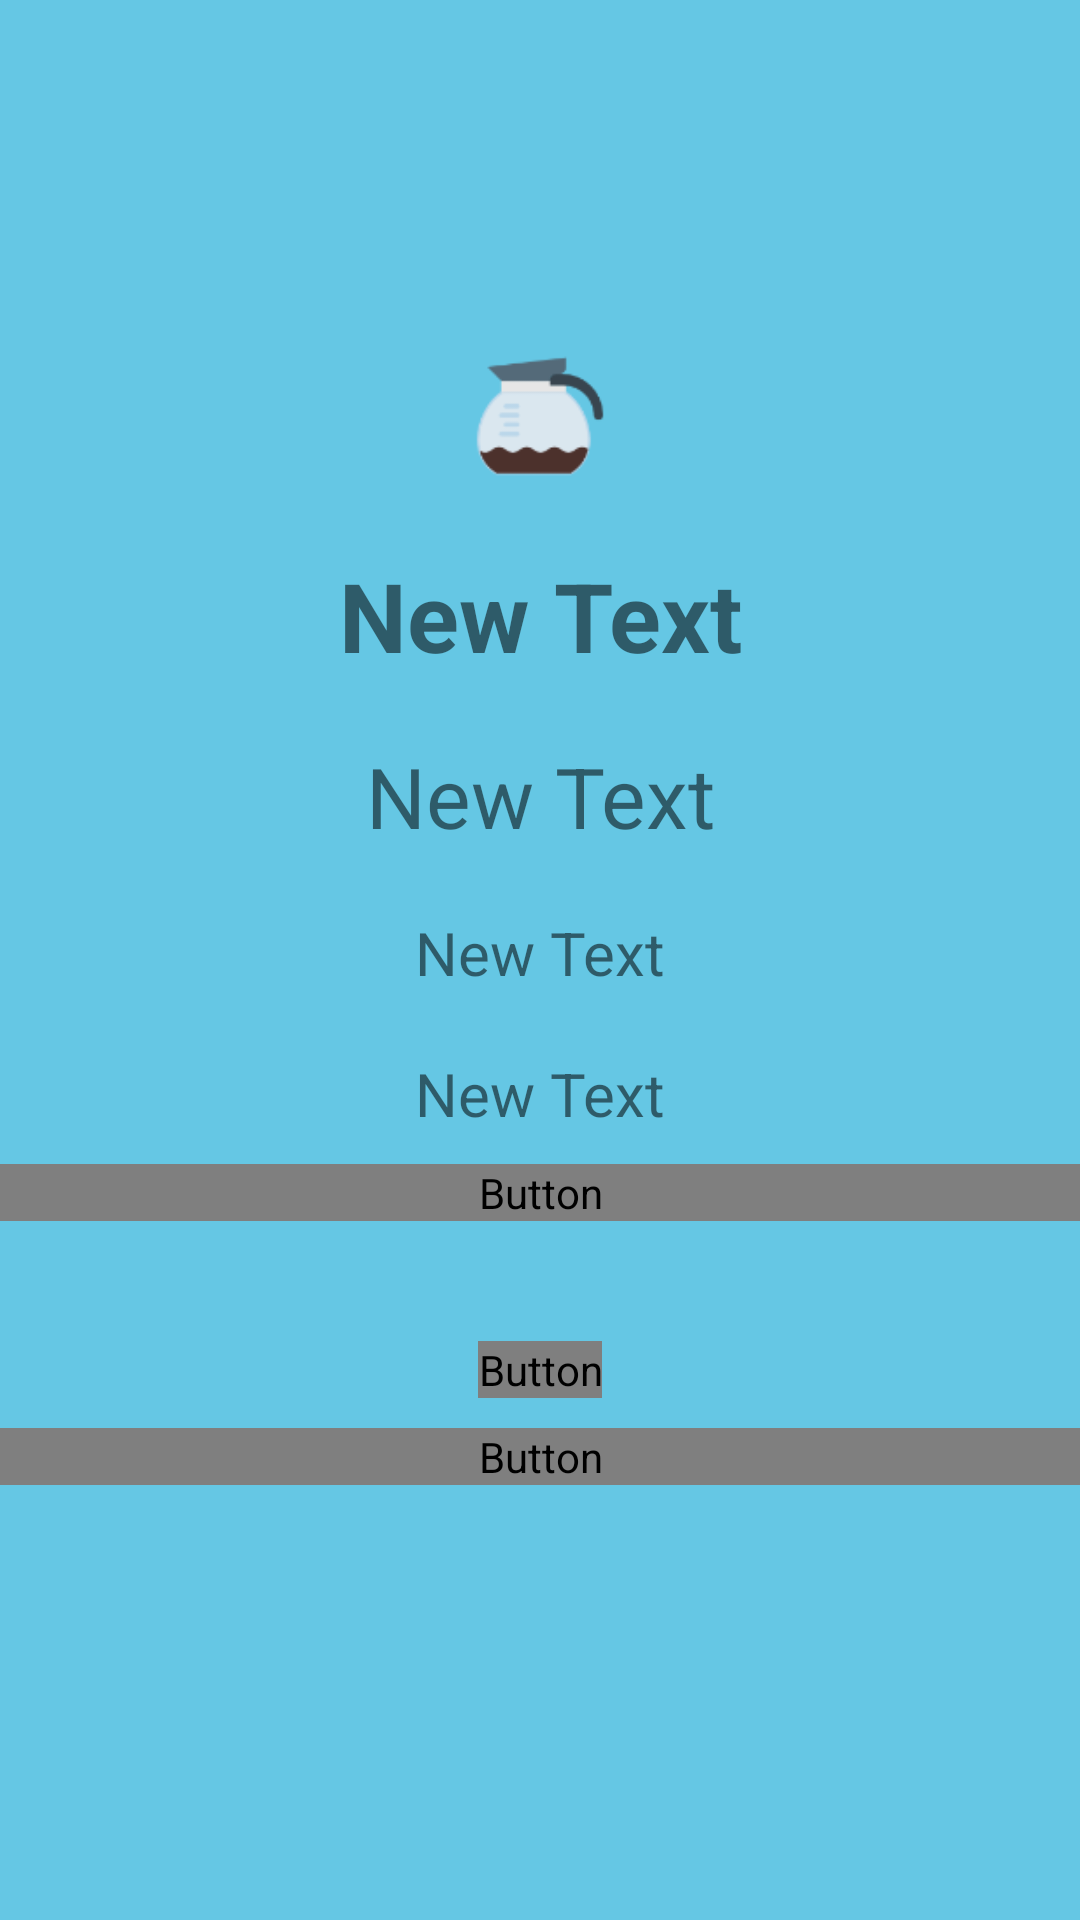

Icons on this 1080x1920 Android screen, each with the point to tap as point (x, y):
coffee maker: point (540, 416)
